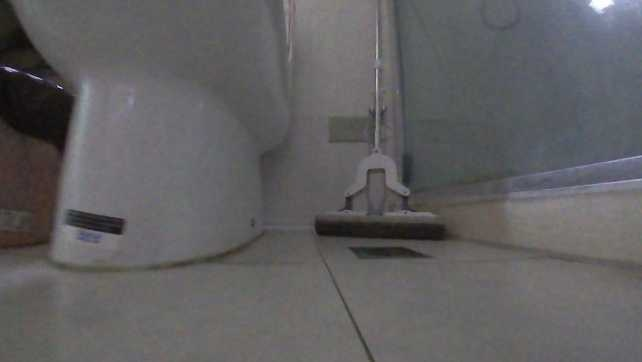toilet: (15, 0, 295, 275)
